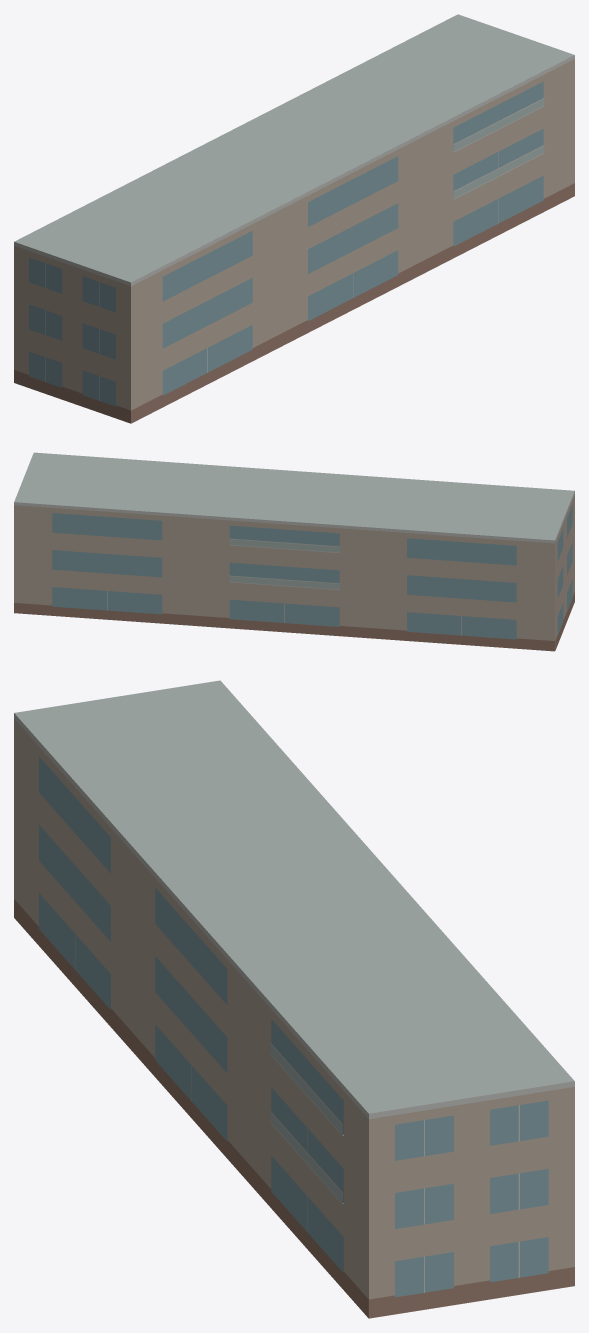
File: residential-08ae2306-ce0e-4af2-997a-bdcf460fd7c7.glb
The picture shows the model from 3 angles, top to bottom: view 1: azimuth 30°, elevation 25°; view 2: azimuth 150°, elevation 25°; view 3: azimuth 270°, elevation 25°; orthographic projection. The views are drawn at different scales.
Parts seen in each view (by area): view 1: residential-08ae2306-ce0e-4af2-997a-bdcf460fd7c7.tmp; view 2: residential-08ae2306-ce0e-4af2-997a-bdcf460fd7c7.tmp; view 3: residential-08ae2306-ce0e-4af2-997a-bdcf460fd7c7.tmp.
Part boxes in pixels (box(x1,y1,x2,y2)): residential-08ae2306-ce0e-4af2-997a-bdcf460fd7c7.tmp: box(14, 14, 574, 423); residential-08ae2306-ce0e-4af2-997a-bdcf460fd7c7.tmp: box(14, 452, 574, 651); residential-08ae2306-ce0e-4af2-997a-bdcf460fd7c7.tmp: box(14, 680, 574, 1318).
Size of the model in its own units: 40.85 by 9 by 22.34.
